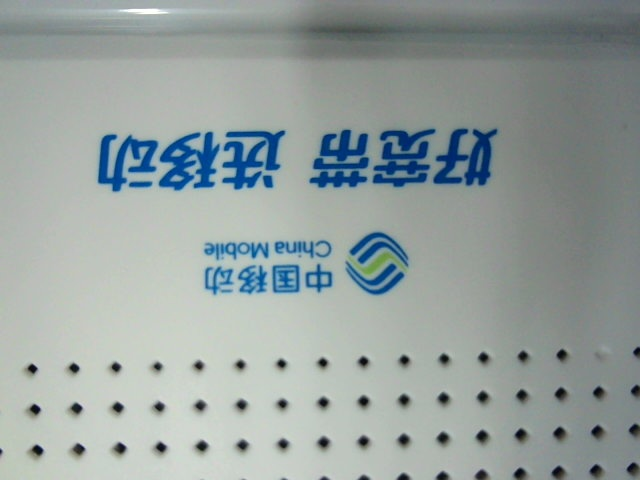AA_ChinaMobile: (88, 110, 505, 296)
